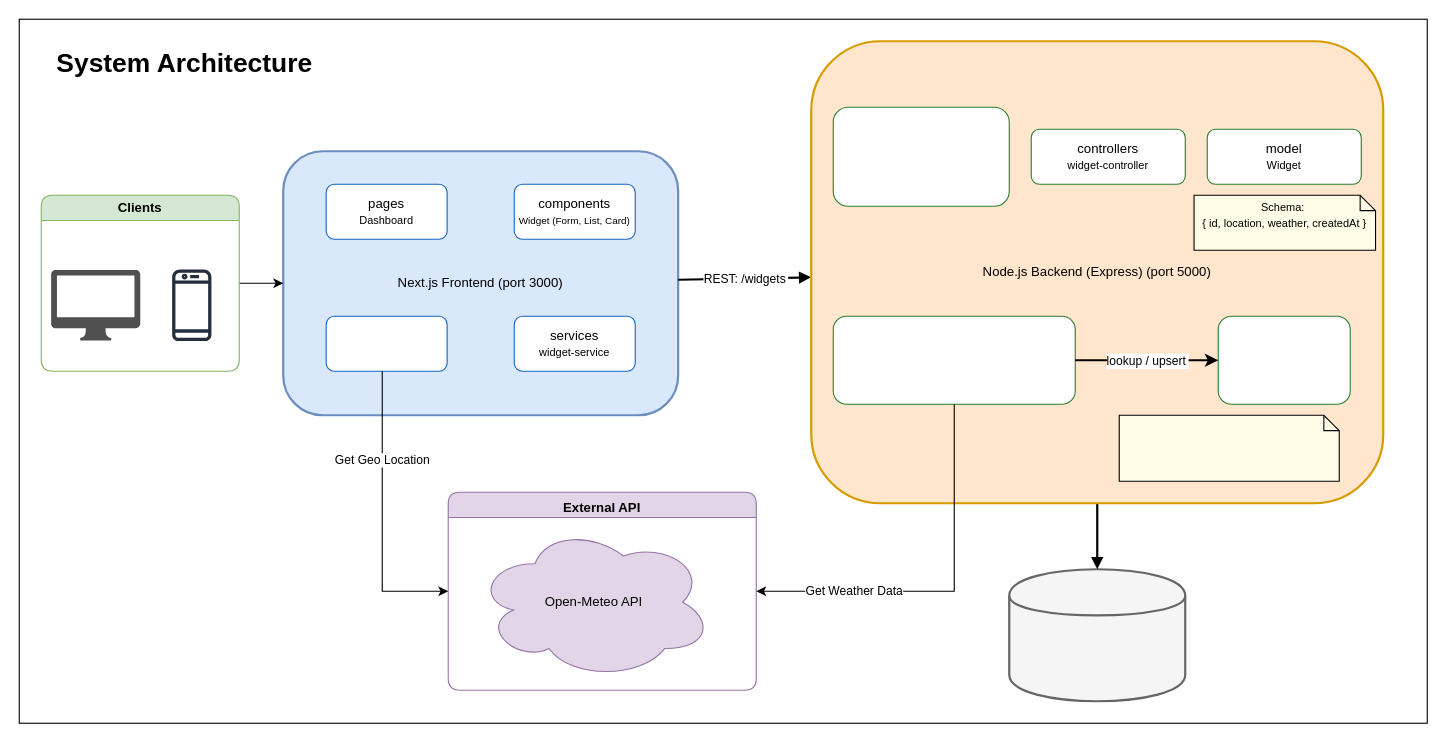
The diagram is 1447 pixels wide and 743 high, and some of its shapes have lost their labels. The centre of each missing label's shape, as x and y in pixels:
"cache in-memory" belongs at point (1283, 359).
"Cache TTL: 5 minutes per city" belongs at point (1228, 447).
"hooks useLocation" belongs at point (386, 343).
"MongoDB Collection: widgets" belongs at point (1097, 635).
"routes GET /widgets POST /widgets DELETE /widgets/:id" belongs at point (920, 156).
"services widget-service weather-service (5-min cache)" belongs at point (953, 359).
